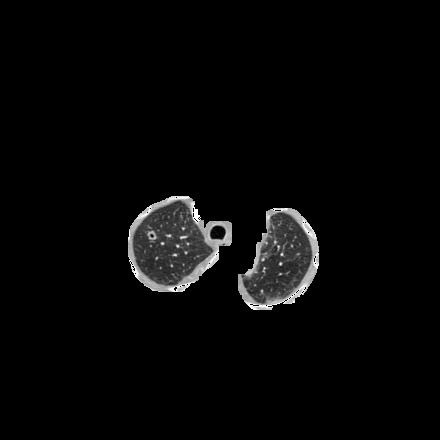PN: (147, 231, 155, 239)
